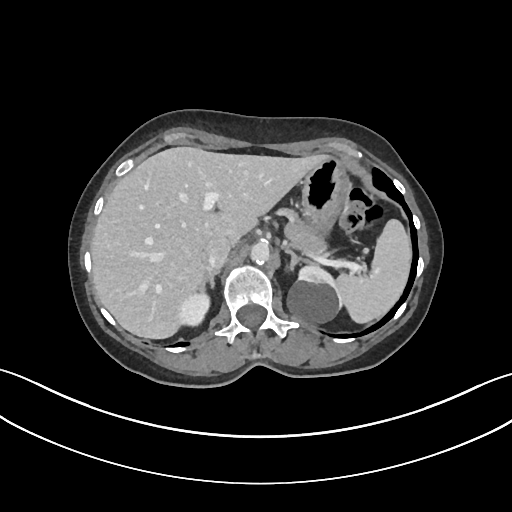Lesion: (284, 277, 342, 327)
